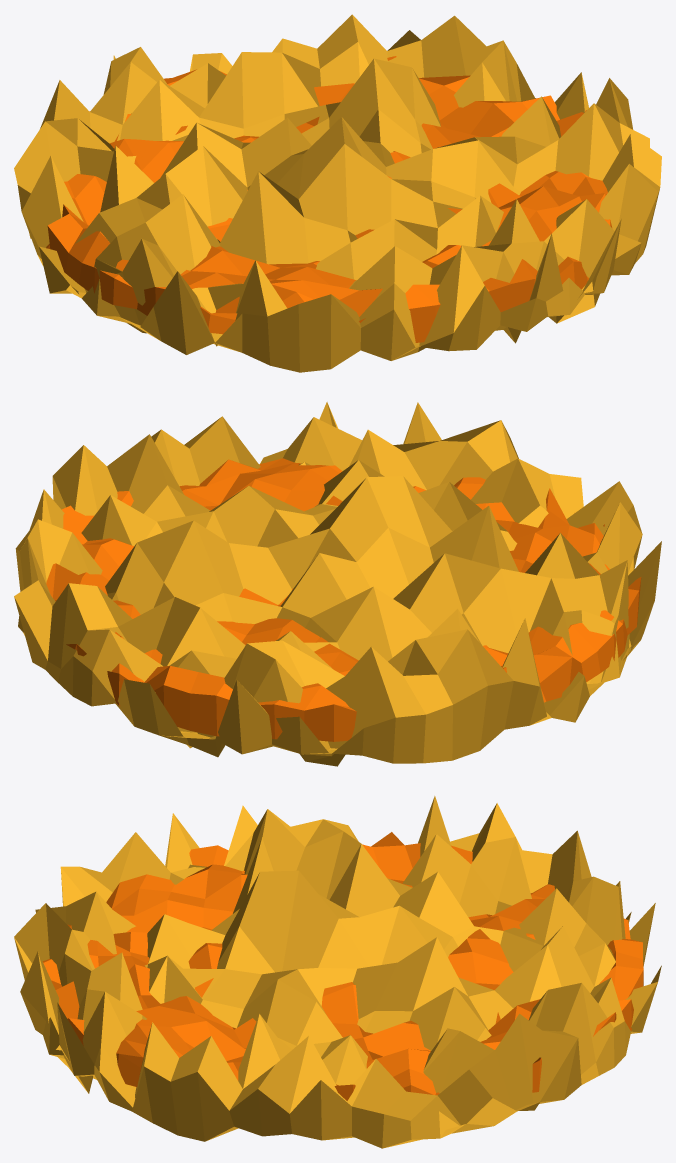
The model's file is FireAOE.fbx.
3 renders of one model, top to bottom at view 1: azimuth 30°, elevation 25°; view 2: azimuth 150°, elevation 25°; view 3: azimuth 270°, elevation 25°, orthographic.
Visible parts, largest first — view 1: Cylinder.001, Cylinder; view 2: Cylinder.001, Cylinder; view 3: Cylinder.001, Cylinder.
Part boxes in pixels (x1,y1,x2,y2): Cylinder.001: (14, 14, 661, 372); Cylinder: (46, 56, 612, 342); Cylinder.001: (14, 402, 661, 766); Cylinder: (46, 458, 641, 741); Cylinder.001: (14, 796, 661, 1148); Cylinder: (42, 832, 643, 1100).
Bounding box in the file's own units: 1291 × 333 × 1299.
